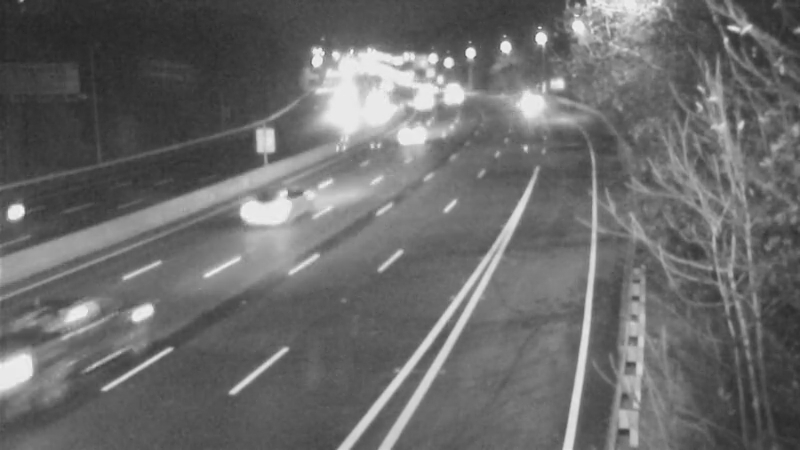vehicle: (1, 307, 95, 417), (240, 168, 320, 248), (1, 171, 69, 251), (421, 72, 471, 122), (507, 81, 557, 131), (394, 74, 444, 124), (395, 107, 445, 157), (349, 84, 399, 134), (319, 88, 369, 138)
